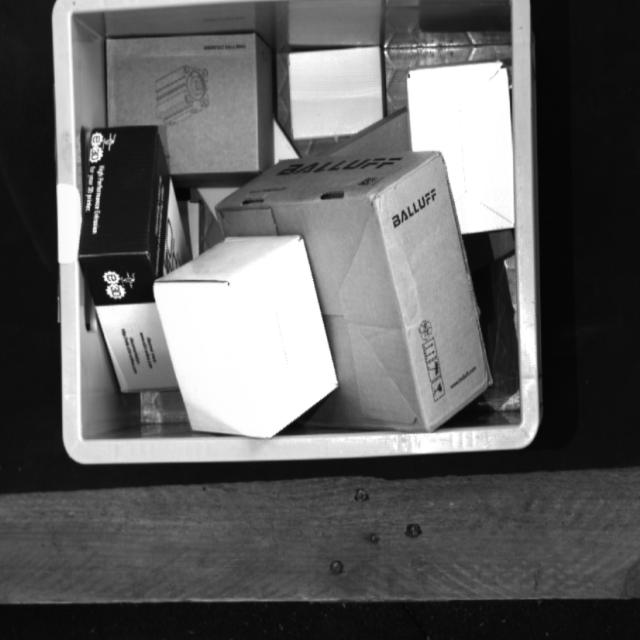Cardboard Box: (213, 152, 493, 433), (318, 82, 514, 320), (150, 233, 338, 438), (77, 123, 197, 395), (105, 31, 276, 175), (177, 84, 303, 245), (404, 61, 515, 240), (289, 46, 383, 139), (135, 198, 201, 328)
